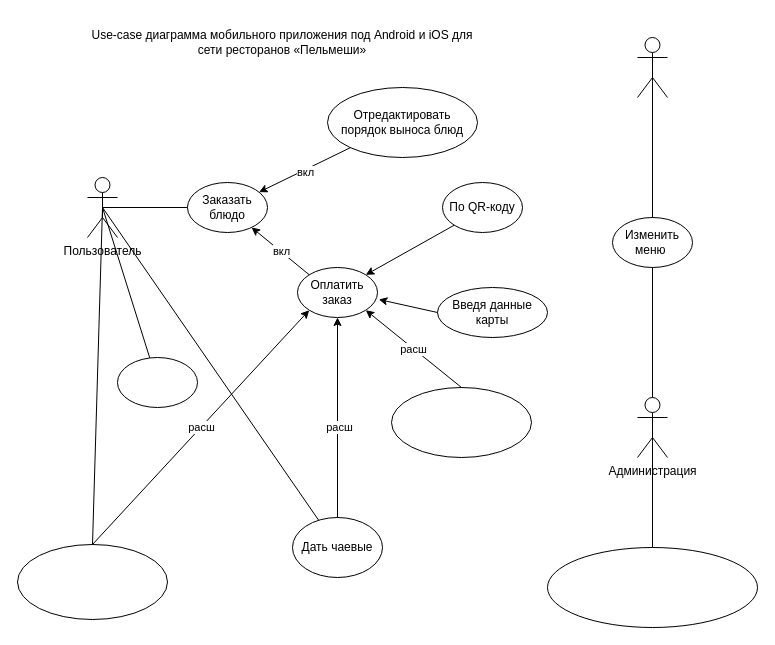
Image size: 775x645. Some labels were removed from this diagram. The shapes that lost their labels are listed below. From the top down, each one's centre as x and y in pixels, then its label:
At (652,67): "Шеф-повар".
At (157,382): "Подозвать официанта".
At (461,422): "Разделить оплату с другим человеком".
At (92,582): "Оценить работу персонала и качество блюд".
At (652,587): "Выгрузить информацию о составе заказа, данной оценке и тп".
